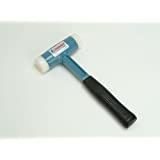hammer: (31, 30, 140, 133)
